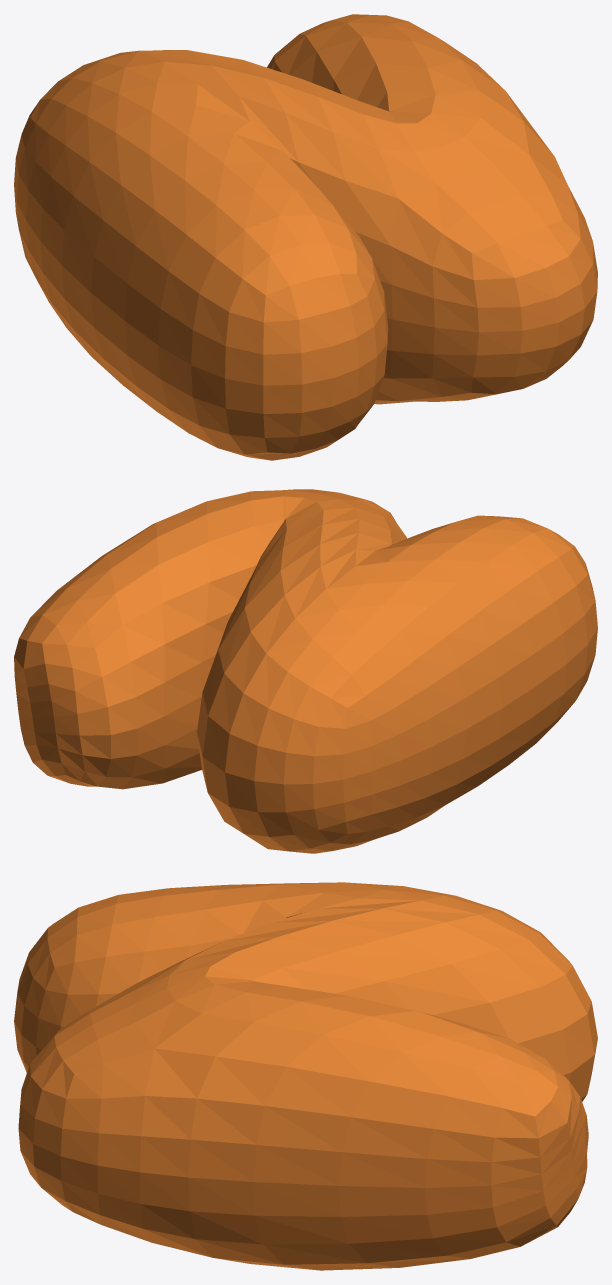
3 views of the same model, one above another, from view 1: azimuth 30°, elevation 25°; view 2: azimuth 150°, elevation 25°; view 3: azimuth 270°, elevation 25° (orthographic). The views are drawn at different scales.
Size of the model in its own units: 0.8288 by 0.5219 by 0.9723.
